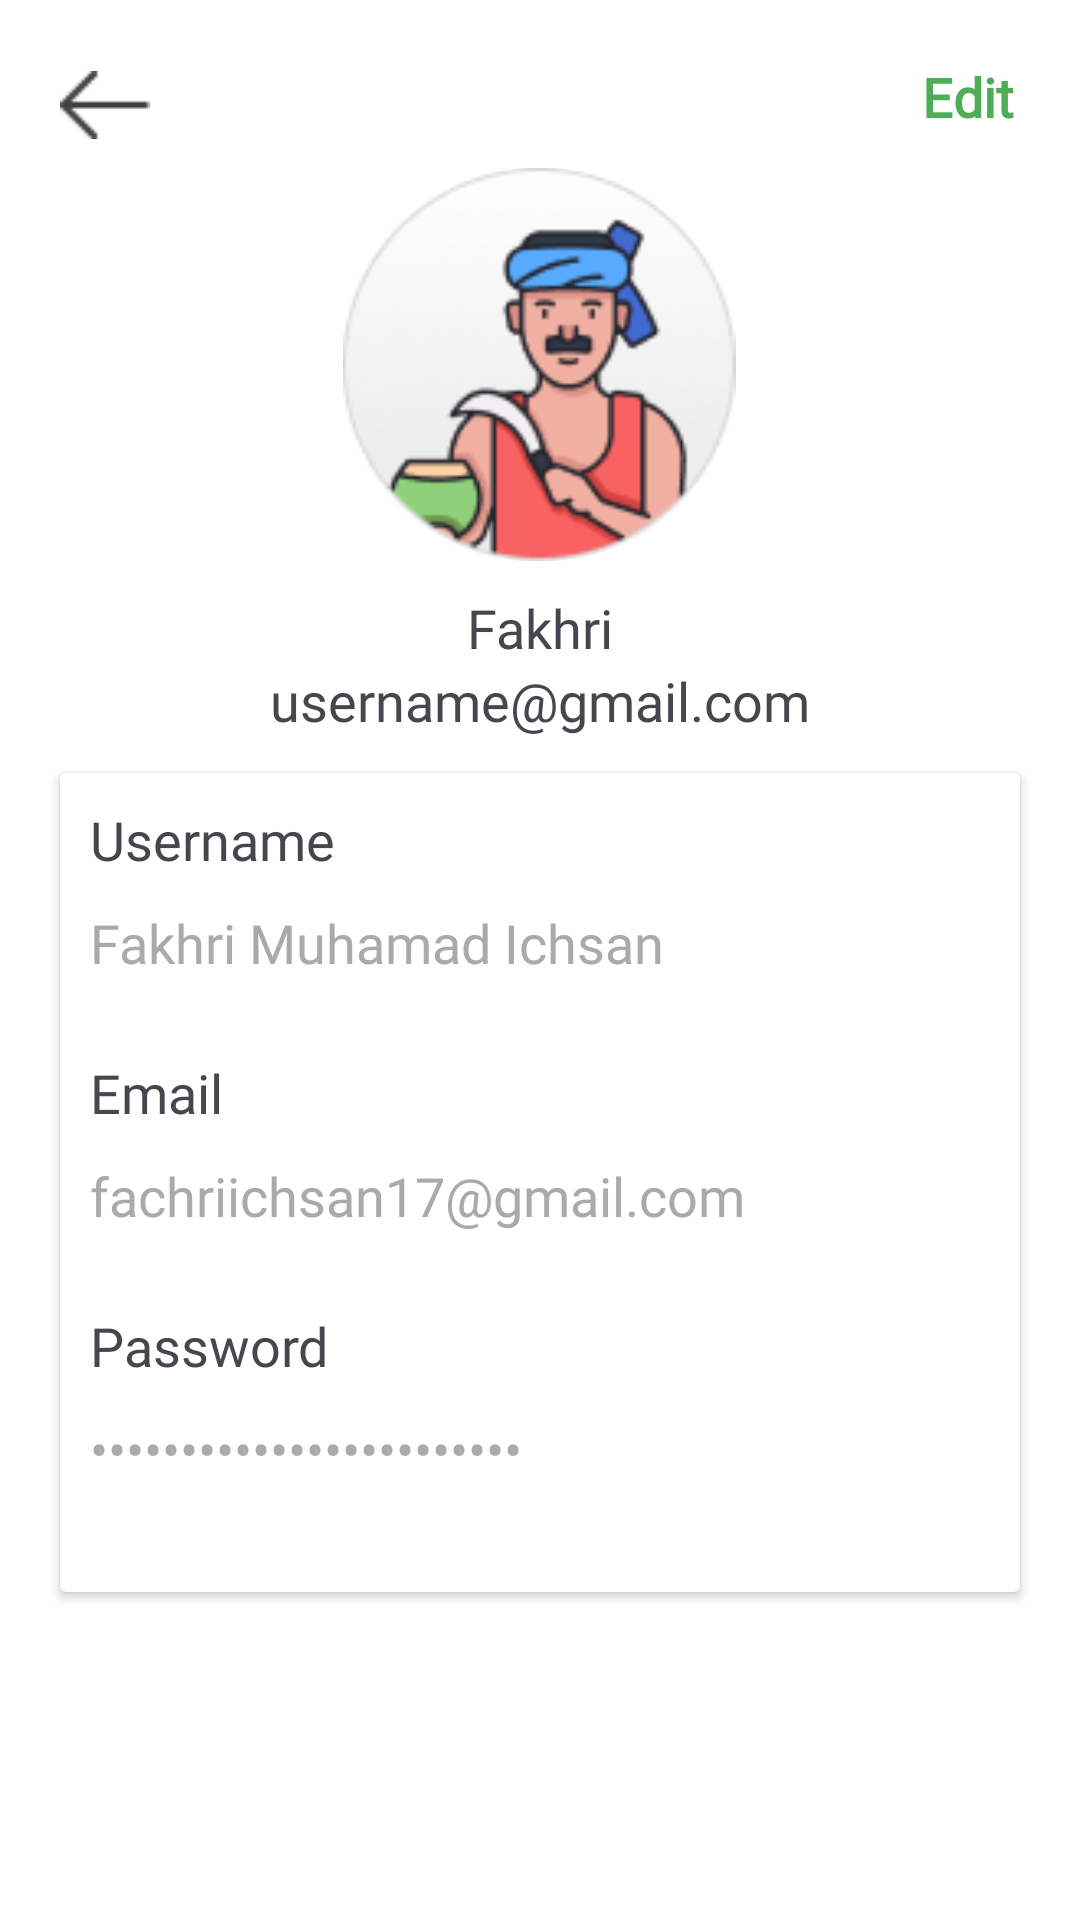

Where to tap for icons on this 1080 x 1920 app screen, as (x=x, y=y):
back: (x=105, y=105)
